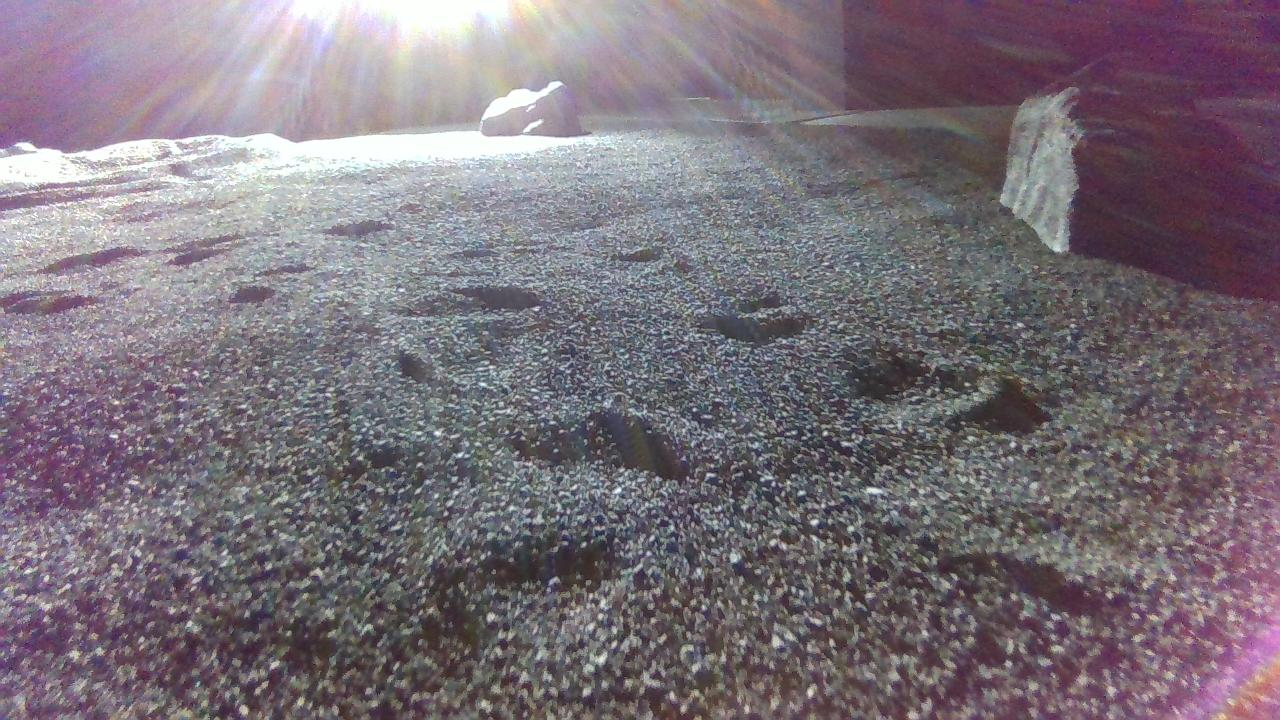rock: (1003, 59, 1219, 255), (481, 79, 583, 135)
